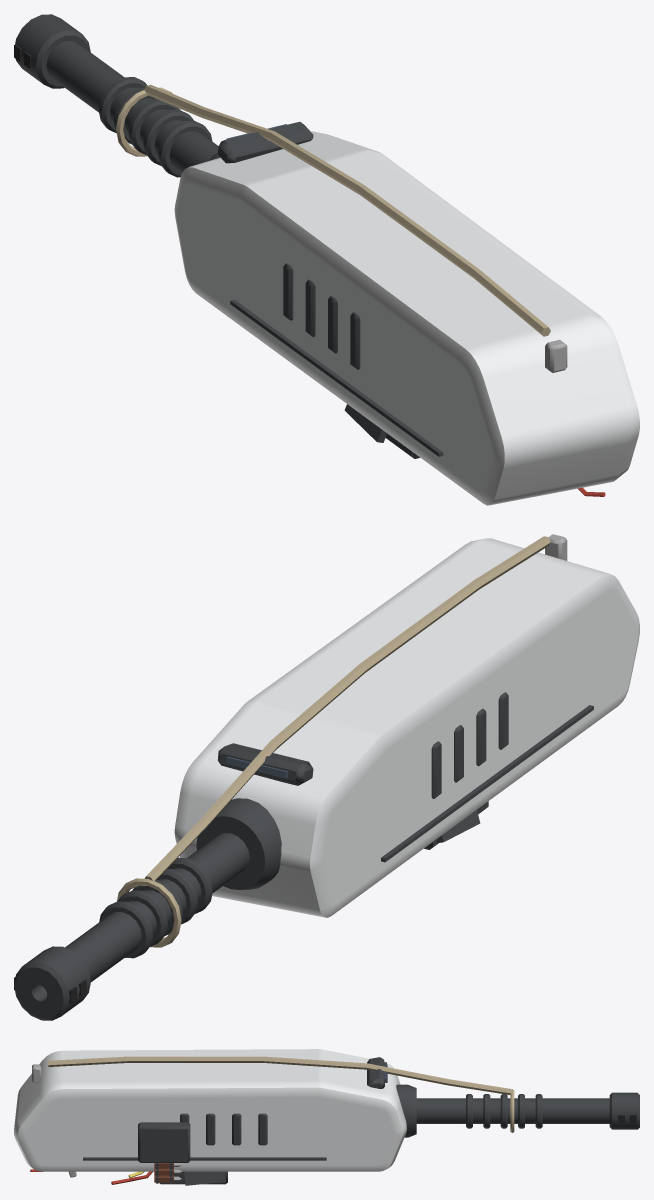
The model's file is robot_gunpod.glb.
3 renders of one model, top to bottom at view 1: azimuth 30°, elevation 25°; view 2: azimuth 150°, elevation 25°; view 3: azimuth 270°, elevation 25°, orthographic. The views are drawn at different scales.
Parts seen in each view (by area): view 1: body; view 2: body; view 3: body.
Boxes of the visible parts, x1,y1,x2,y2 form: body: [14, 14, 639, 505]; body: [14, 534, 639, 1020]; body: [14, 1049, 639, 1185].
Bounding box in the file's own units: 0.198 × 0.2228 × 1.08.
